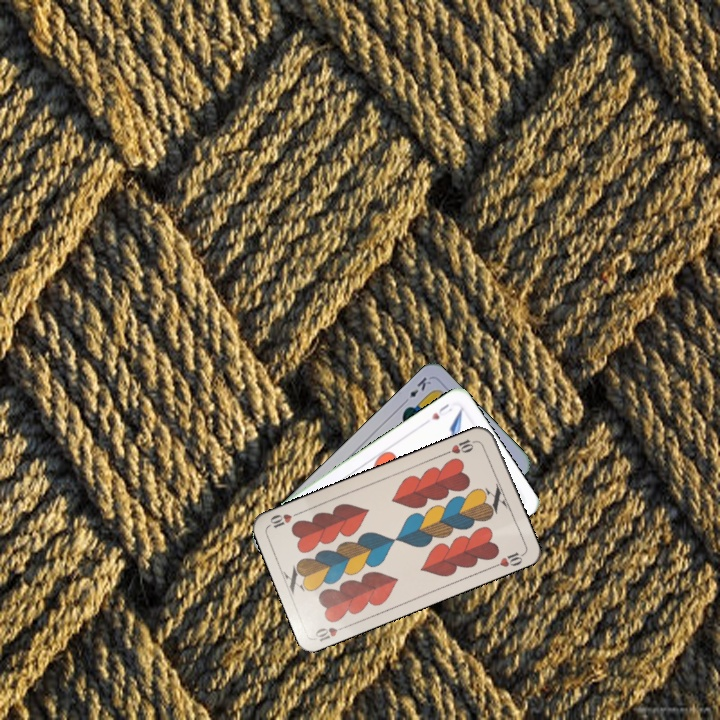EK: (399, 373, 434, 407)
H10: (311, 621, 351, 644), (441, 434, 480, 457)
HU: (427, 400, 455, 423)
